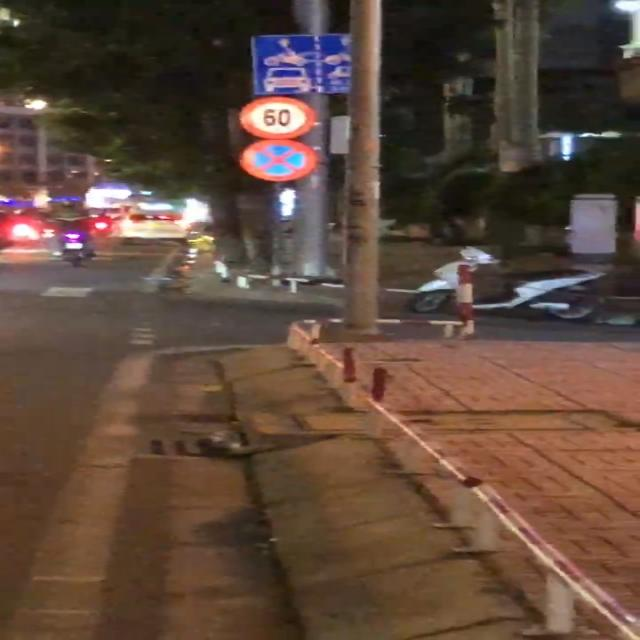Bien bao cam dung xe va do xe: (238, 139, 316, 187)
